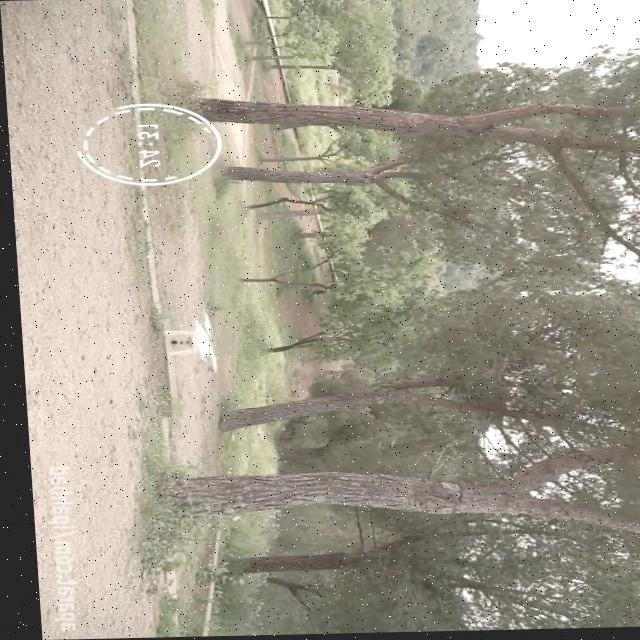drone: (157, 308, 217, 376)
